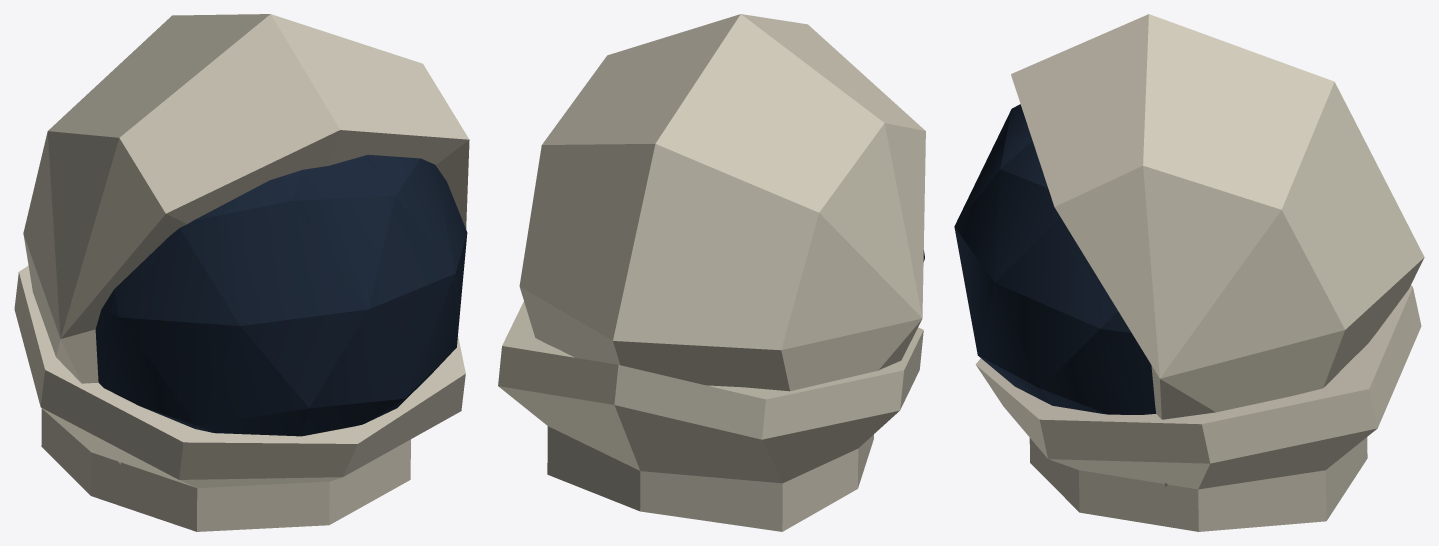
The model's file is Casco.fbx.
3 views of the same model, side by side, from view 1: azimuth 30°, elevation 25°; view 2: azimuth 150°, elevation 25°; view 3: azimuth 270°, elevation 25° (orthographic). The views are drawn at different scales.
Visible parts, largest first — view 1: Casco; view 2: Casco; view 3: Casco.
Boxes of the visible parts, box(x1,y1,x2,y2) form: Casco: box(14, 14, 469, 531); Casco: box(498, 14, 925, 531); Casco: box(954, 14, 1424, 531).
Size of the model in its own units: 224 by 246 by 233.
